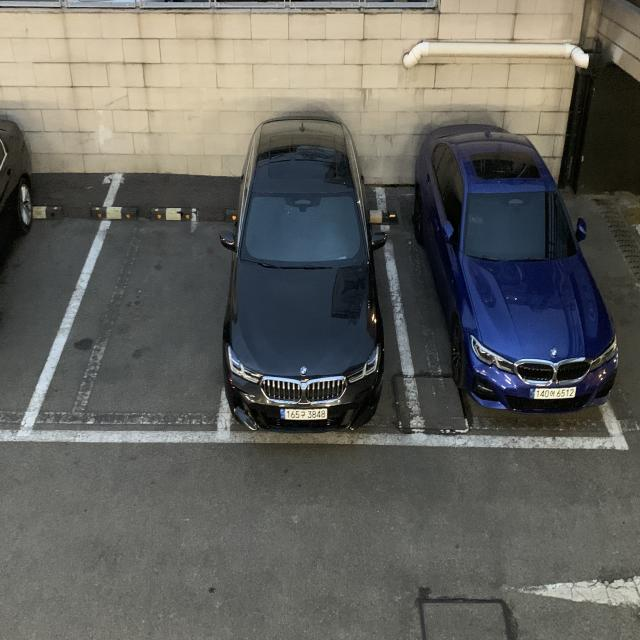empty: (44, 198, 240, 444)
occupied: (409, 125, 625, 430), (229, 185, 406, 458)
